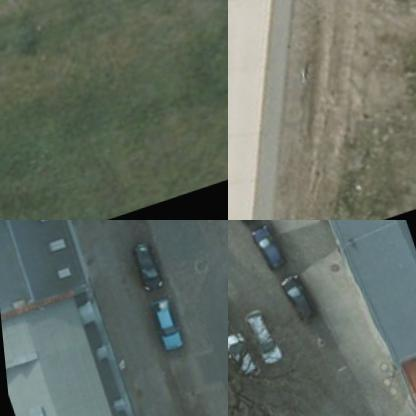car: (240, 307, 287, 368), (142, 294, 185, 358), (275, 272, 320, 328), (249, 224, 292, 276), (228, 332, 261, 389), (130, 240, 164, 292), (234, 220, 271, 233)
